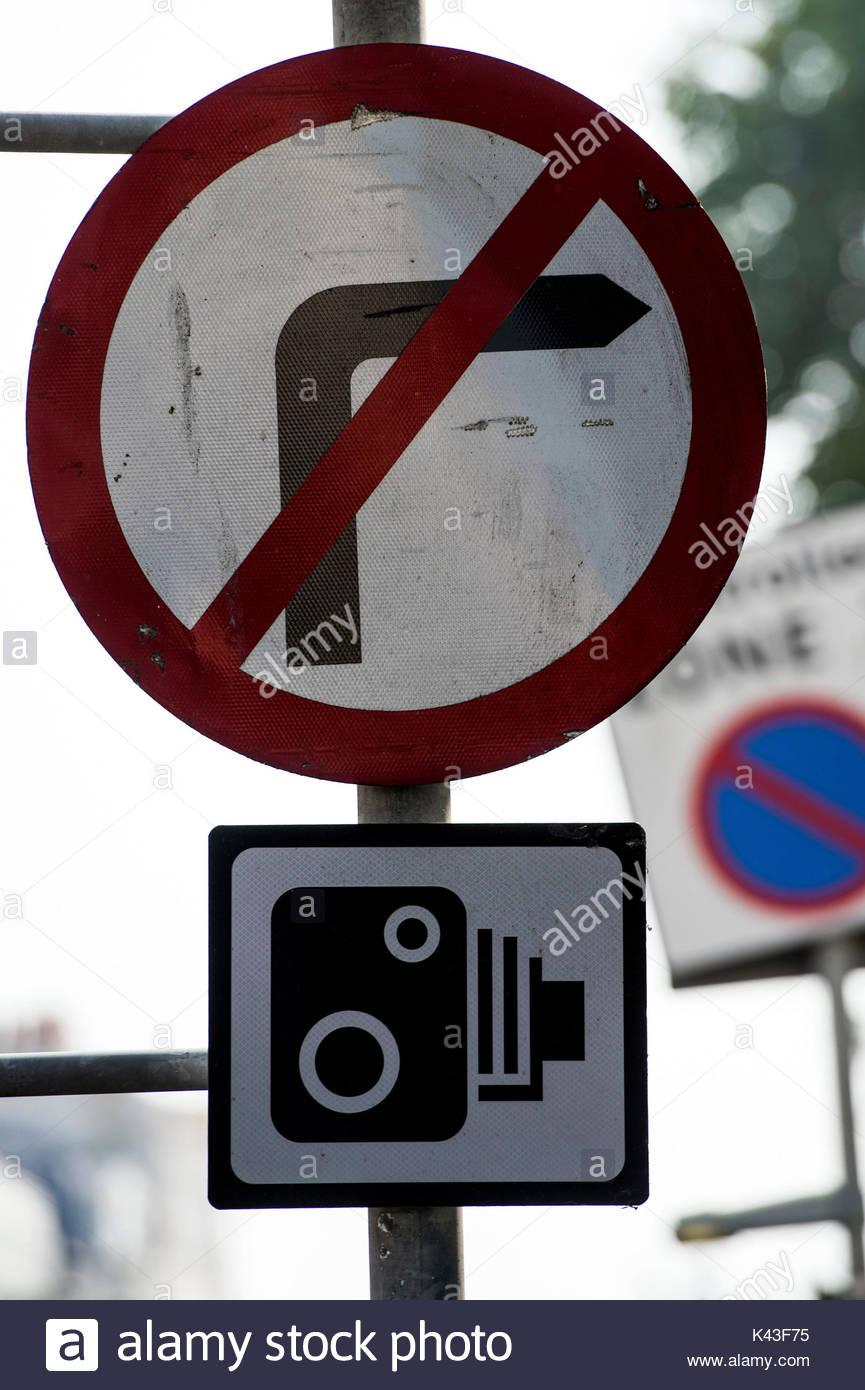no_right_turn: (23, 44, 767, 779)
